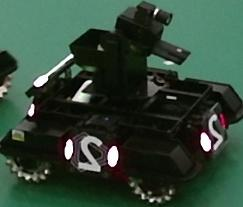armor_2: (65, 139, 118, 167)
light: (33, 53, 74, 87)
